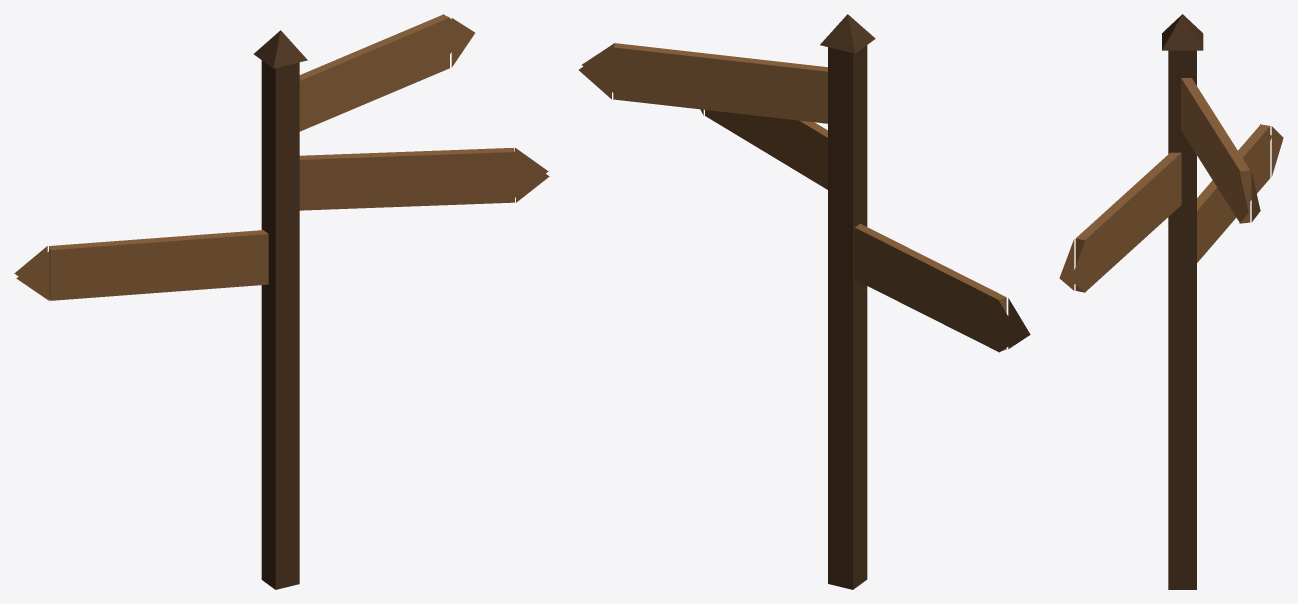
The model's file is SM_Signpost.fbx.
3 views of the same model, side by side, from view 1: azimuth 30°, elevation 25°; view 2: azimuth 150°, elevation 25°; view 3: azimuth 270°, elevation 25° (orthographic). The views are drawn at different scales.
Parts seen in each view (by area): view 1: SM_Signpost; view 2: SM_Signpost; view 3: SM_Signpost.
Part boxes in pixels (x1=…): SM_Signpost: x1=14, y1=14, x2=549, y2=589; SM_Signpost: x1=579, y1=14, x2=1030, y2=589; SM_Signpost: x1=1059, y1=14, x2=1283, y2=589.
Size of what is drawn, in the model's own units: 2.59 by 3.05 by 1.09.
